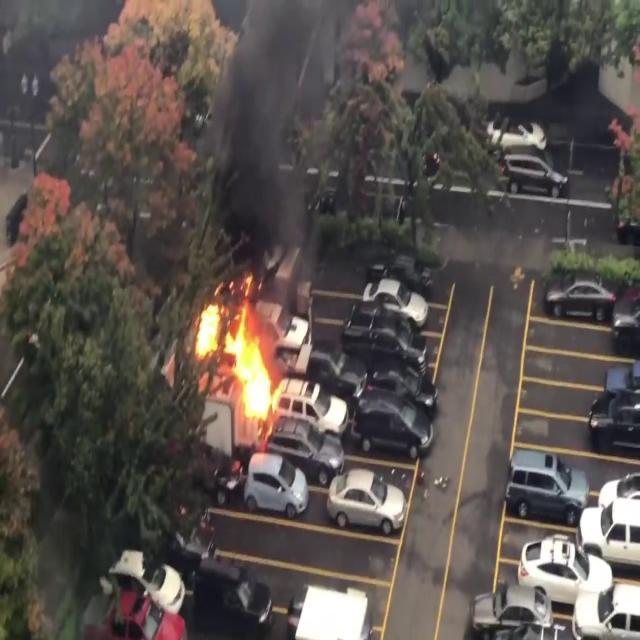Fire: (192, 272, 296, 429)
Smoke: (203, 1, 355, 264)
